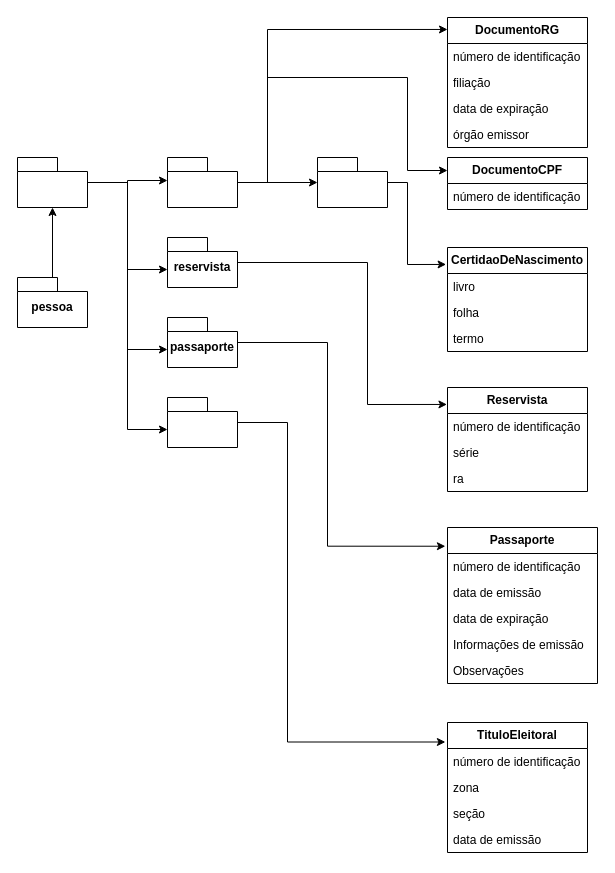
Some shapes in this 615 by 873 pixel diagram are drawn without their labels. Each missing label, with the box of its shape:
certidaoNas: (316, 156, 388, 208)
documento: (16, 156, 88, 208)
rg: (166, 156, 238, 208)
tituloEleit: (166, 396, 238, 448)
